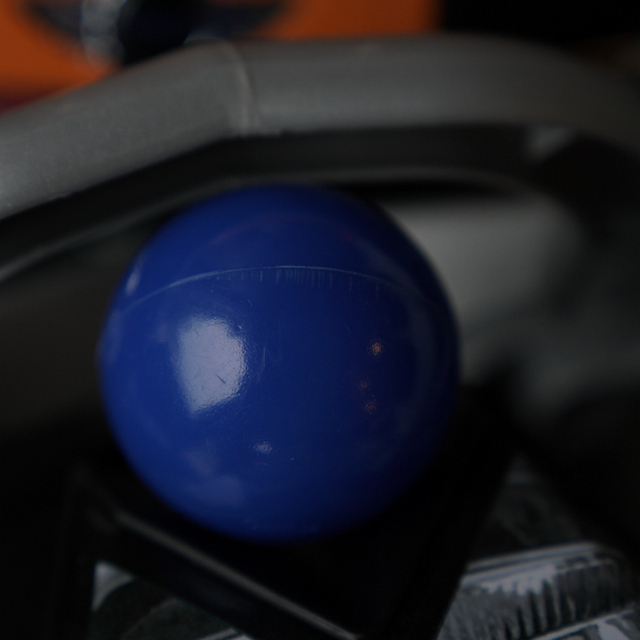Ball: (101, 182, 462, 532)
